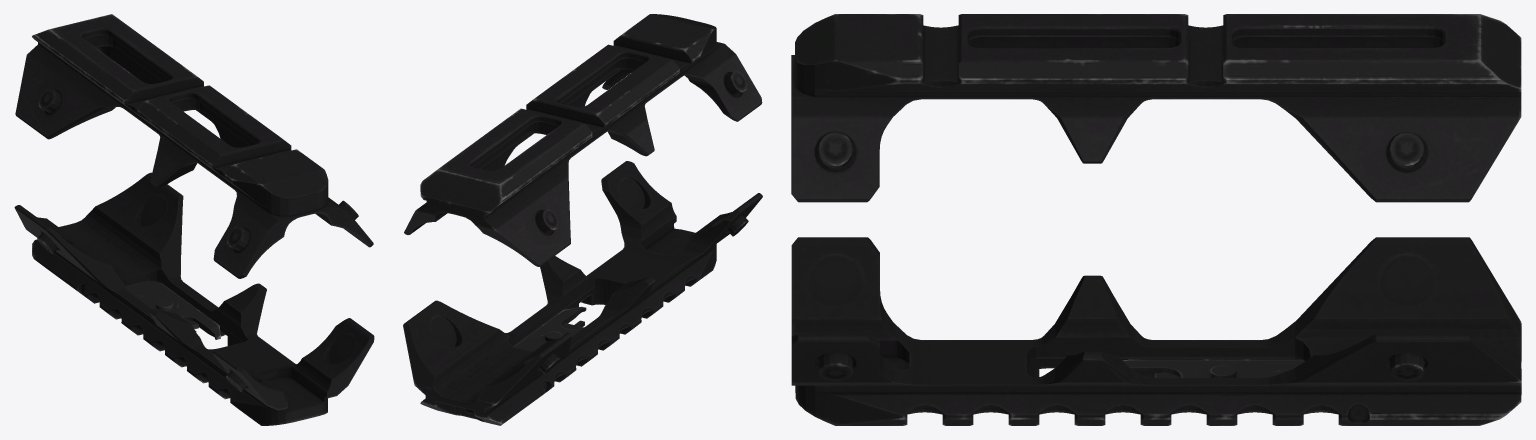
The picture shows the model from 3 angles, left to right: view 1: azimuth 30°, elevation 25°; view 2: azimuth 150°, elevation 25°; view 3: azimuth 270°, elevation 25°; orthographic projection. The views are drawn at different scales.
Parts seen in each view (by area): view 1: TW_68a6e8fd4ac5b037cb0e9b86_folded_PZ_Import; view 2: TW_68a6e8fd4ac5b037cb0e9b86_folded_PZ_Import; view 3: TW_68a6e8fd4ac5b037cb0e9b86_folded_PZ_Import.
Part boxes in pixels (box(x1,y1,x2,y2)): TW_68a6e8fd4ac5b037cb0e9b86_folded_PZ_Import: box(14, 14, 374, 425); TW_68a6e8fd4ac5b037cb0e9b86_folded_PZ_Import: box(403, 14, 762, 425); TW_68a6e8fd4ac5b037cb0e9b86_folded_PZ_Import: box(791, 14, 1521, 425).
Bounding box in the file's own units: 0.021 × 0.0639 × 0.0353.
Materials: 1 (1 with a texture image).
